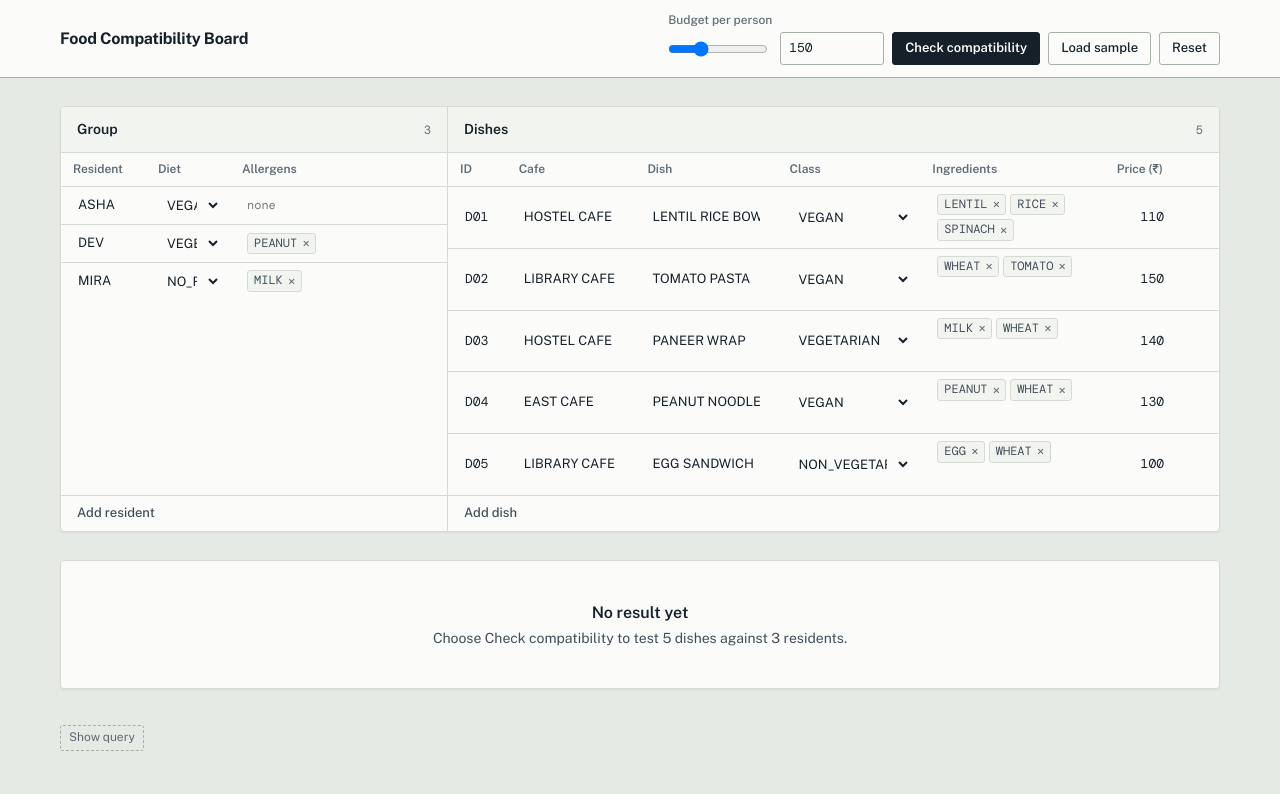
Test: AC2 — the screen prints the contracted exclusion reasons › marks D02 as sitting exactly on the ₹150 boundary
Click the button "Check compatibility": (966, 49) [892,32,1040,65]
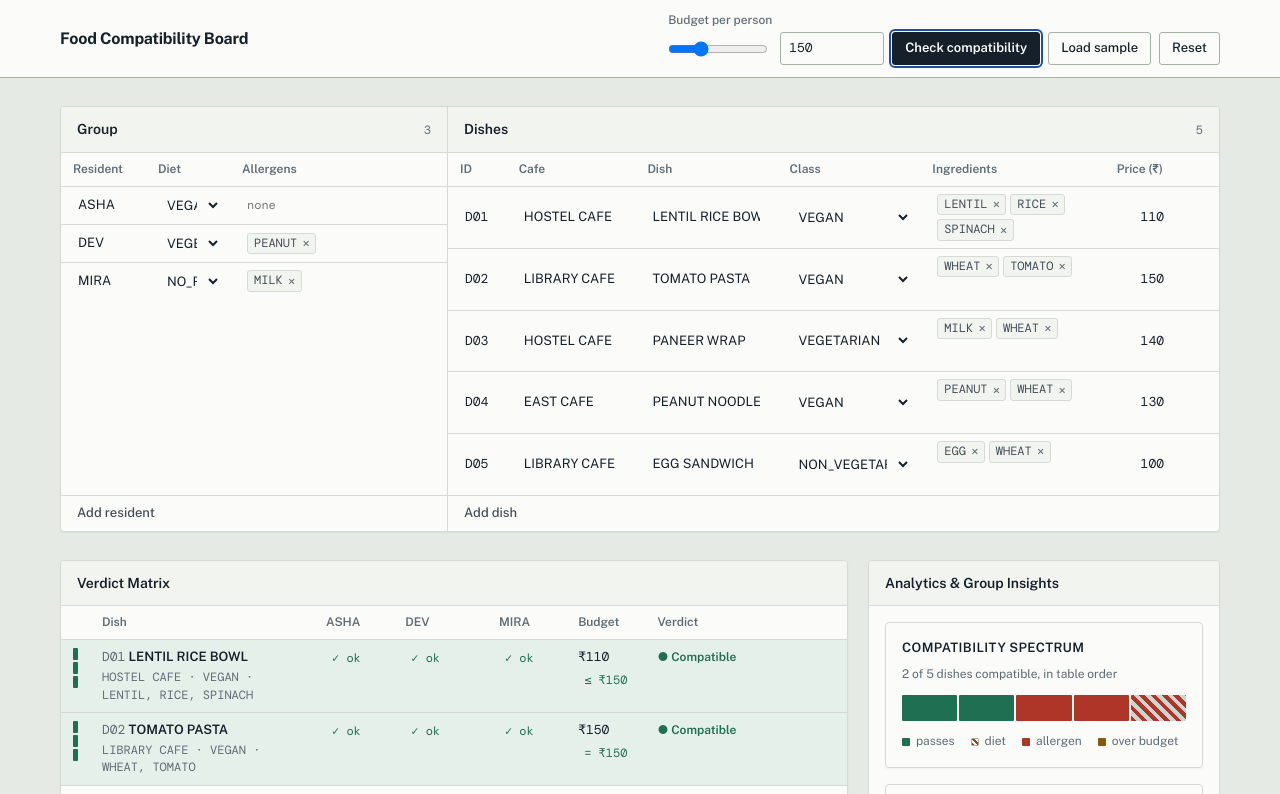
Expected: the text "= ₹150" is shown, [578,743,633,764]
